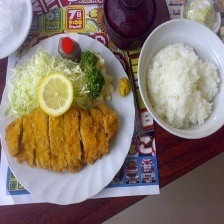rice: (146, 42, 221, 130)
